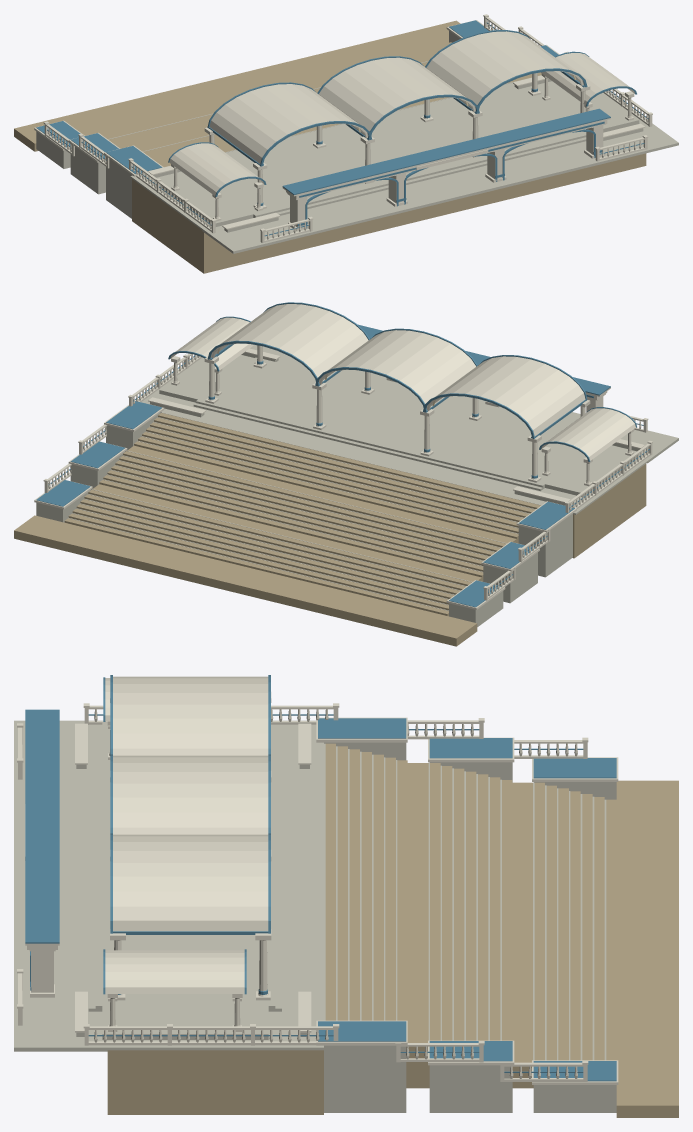
The model's file is KOL_HBR_GHAT.fbx.
3 renders of one model, top to bottom at view 1: azimuth 30°, elevation 25°; view 2: azimuth 150°, elevation 25°; view 3: azimuth 270°, elevation 25°, orthographic. The views are drawn at different scales.
Parts seen in each view (by area): view 1: KOL_HBR_GHAT__LandingsAndPublicFloor__Concrete, KOL_HBR_GHAT__RiverBankFoundation__Stone, KOL_HBR_GHAT__TripleVaultShadePavilion__White, KOL_HBR_GHAT__StreetApronFoundation__Concrete, KOL_HBR_GHAT__RiverBankFoundation__Concrete, KOL_HBR_GHAT__RoadArrivalGateway__Blue, KOL_HBR_GHAT__SideShadeCanopies__White, KOL_HBR_GHAT__RoadArrivalGateway__White, KOL_HBR_GHAT__StairFlight1__Stone, KOL_HBR_GHAT__TripleVaultShadePavilion__Blue, KOL_HBR_GHAT__RiverBankFoundation__Blue, KOL_HBR_GHAT__MainPavilionColumns__White (+12 smaller); view 2: KOL_HBR_GHAT__LandingsAndPublicFloor__Concrete, KOL_HBR_GHAT__TripleVaultShadePavilion__White, KOL_HBR_GHAT__RiverBankFoundation__Stone, KOL_HBR_GHAT__StairFlight2__Stone, KOL_HBR_GHAT__StairFlight1__Stone, KOL_HBR_GHAT__StairFlight3__Stone, KOL_HBR_GHAT__RiverBankFoundation__Concrete, KOL_HBR_GHAT__LandingsAndPublicFloor__Stone, KOL_HBR_GHAT__SideShadeCanopies__White, KOL_HBR_GHAT__RiverBankFoundation__Blue, KOL_HBR_GHAT__StairFlight1__Concrete, KOL_HBR_GHAT__StairFlight2__Concrete (+8 smaller); view 3: KOL_HBR_GHAT__TripleVaultShadePavilion__White, KOL_HBR_GHAT__RiverBankFoundation__Stone, KOL_HBR_GHAT__RiverBankFoundation__Concrete, KOL_HBR_GHAT__StairFlight2__Stone, KOL_HBR_GHAT__StairFlight1__Stone, KOL_HBR_GHAT__StairFlight3__Stone, KOL_HBR_GHAT__LandingsAndPublicFloor__Concrete, KOL_HBR_GHAT__StreetApronFoundation__Concrete, KOL_HBR_GHAT__LandingsAndPublicFloor__Stone, KOL_HBR_GHAT__RiverBankFoundation__Blue, KOL_HBR_GHAT__RoadArrivalGateway__Blue, KOL_HBR_GHAT__SideShadeCanopies__White (+16 smaller).
Boxes of the visible parts, x1=… form: KOL_HBR_GHAT__LandingsAndPublicFloor__Concrete: x1=160, y1=86, x2=639, y2=226; KOL_HBR_GHAT__RiverBankFoundation__Stone: x1=14, y1=20, x2=646, y2=273; KOL_HBR_GHAT__TripleVaultShadePavilion__White: x1=209, y1=31, x2=584, y2=163; KOL_HBR_GHAT__StreetApronFoundation__Concrete: x1=202, y1=121, x2=678, y2=253; KOL_HBR_GHAT__RiverBankFoundation__Concrete: x1=36, y1=31, x2=645, y2=229; KOL_HBR_GHAT__RoadArrivalGateway__Blue: x1=282, y1=108, x2=610, y2=228; KOL_HBR_GHAT__SideShadeCanopies__White: x1=169, y1=53, x2=634, y2=221; KOL_HBR_GHAT__RoadArrivalGateway__White: x1=282, y1=118, x2=610, y2=230; KOL_HBR_GHAT__StairFlight1__Stone: x1=79, y1=41, x2=451, y2=139; KOL_HBR_GHAT__TripleVaultShadePavilion__Blue: x1=207, y1=30, x2=587, y2=166; KOL_HBR_GHAT__RiverBankFoundation__Blue: x1=36, y1=20, x2=558, y2=173; KOL_HBR_GHAT__MainPavilionColumns__White: x1=204, y1=73, x2=590, y2=208; KOL_HBR_GHAT__LandingsAndPublicFloor__Concrete: x1=159, y1=356, x2=639, y2=496; KOL_HBR_GHAT__TripleVaultShadePavilion__White: x1=210, y1=304, x2=585, y2=436; KOL_HBR_GHAT__RiverBankFoundation__Stone: x1=14, y1=464, x2=646, y2=646; KOL_HBR_GHAT__StairFlight2__Stone: x1=99, y1=451, x2=506, y2=581; KOL_HBR_GHAT__StairFlight1__Stone: x1=64, y1=489, x2=471, y2=616; KOL_HBR_GHAT__StairFlight3__Stone: x1=134, y1=413, x2=540, y2=543; KOL_HBR_GHAT__RiverBankFoundation__Concrete: x1=36, y1=356, x2=647, y2=626; KOL_HBR_GHAT__LandingsAndPublicFloor__Stone: x1=93, y1=445, x2=516, y2=581; KOL_HBR_GHAT__SideShadeCanopies__White: x1=170, y1=317, x2=635, y2=486; KOL_HBR_GHAT__RiverBankFoundation__Blue: x1=36, y1=401, x2=574, y2=607; KOL_HBR_GHAT__StairFlight1__Concrete: x1=68, y1=489, x2=472, y2=610; KOL_HBR_GHAT__StairFlight2__Concrete: x1=103, y1=450, x2=506, y2=572; KOL_HBR_GHAT__TripleVaultShadePavilion__White: x1=113, y1=676, x2=268, y2=931; KOL_HBR_GHAT__RiverBankFoundation__Stone: x1=107, y1=780, x2=678, y2=1117; KOL_HBR_GHAT__RiverBankFoundation__Concrete: x1=107, y1=720, x2=616, y2=1112; KOL_HBR_GHAT__StairFlight2__Stone: x1=428, y1=763, x2=512, y2=1088; KOL_HBR_GHAT__StairFlight1__Stone: x1=533, y1=782, x2=616, y2=1088; KOL_HBR_GHAT__StairFlight3__Stone: x1=325, y1=743, x2=407, y2=1088; KOL_HBR_GHAT__LandingsAndPublicFloor__Concrete: x1=88, y1=722, x2=281, y2=1039; KOL_HBR_GHAT__StreetApronFoundation__Concrete: x1=14, y1=720, x2=107, y2=1051; KOL_HBR_GHAT__LandingsAndPublicFloor__Stone: x1=407, y1=763, x2=532, y2=1088; KOL_HBR_GHAT__RiverBankFoundation__Blue: x1=318, y1=718, x2=616, y2=1081; KOL_HBR_GHAT__RoadArrivalGateway__Blue: x1=25, y1=709, x2=59, y2=990; KOL_HBR_GHAT__SideShadeCanopies__White: x1=105, y1=678, x2=244, y2=1031.
Size of the model in its own units: 149 by 39.25 by 128.
